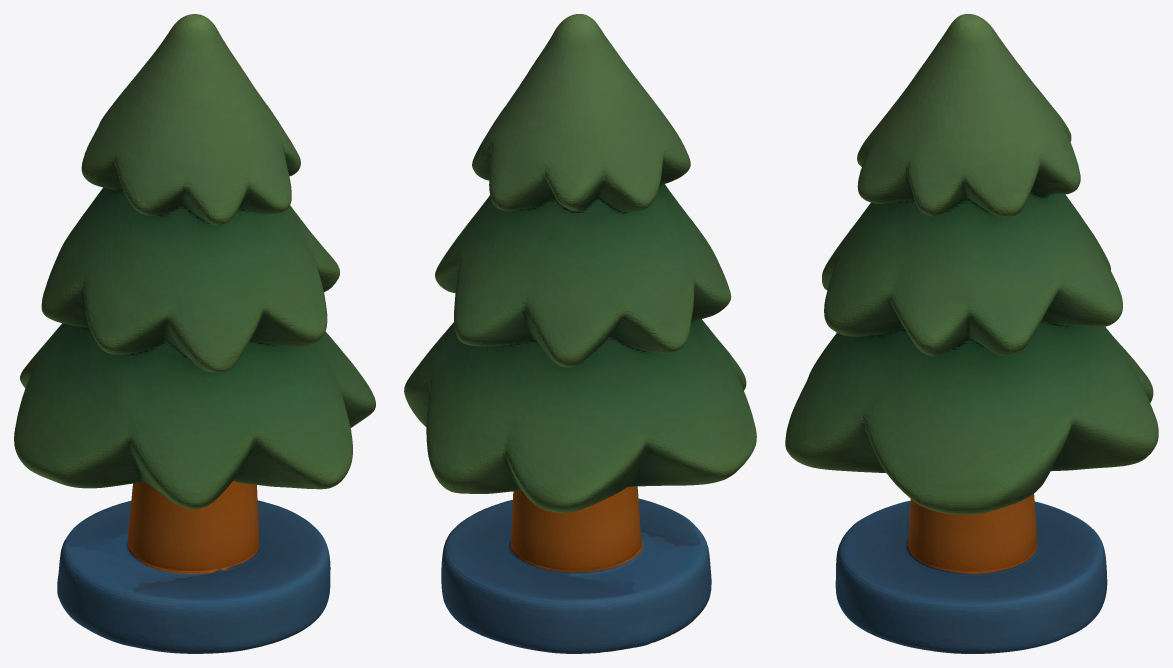
Rendered from tree-conifer.glb.
3 views of the same model, side by side, from view 1: azimuth 30°, elevation 25°; view 2: azimuth 150°, elevation 25°; view 3: azimuth 270°, elevation 25° (orthographic).
Parts seen in each view (by area): view 1: textured_mesh.obj; view 2: textured_mesh.obj; view 3: textured_mesh.obj.
Part boxes in pixels (x1,y1,x2,y2): textured_mesh.obj: [14, 14, 375, 653]; textured_mesh.obj: [404, 14, 756, 653]; textured_mesh.obj: [785, 14, 1158, 653].
Bounding box in the file's own units: 1.17 × 1.99 × 1.15.
Materials: 1 (1 with a texture image).
